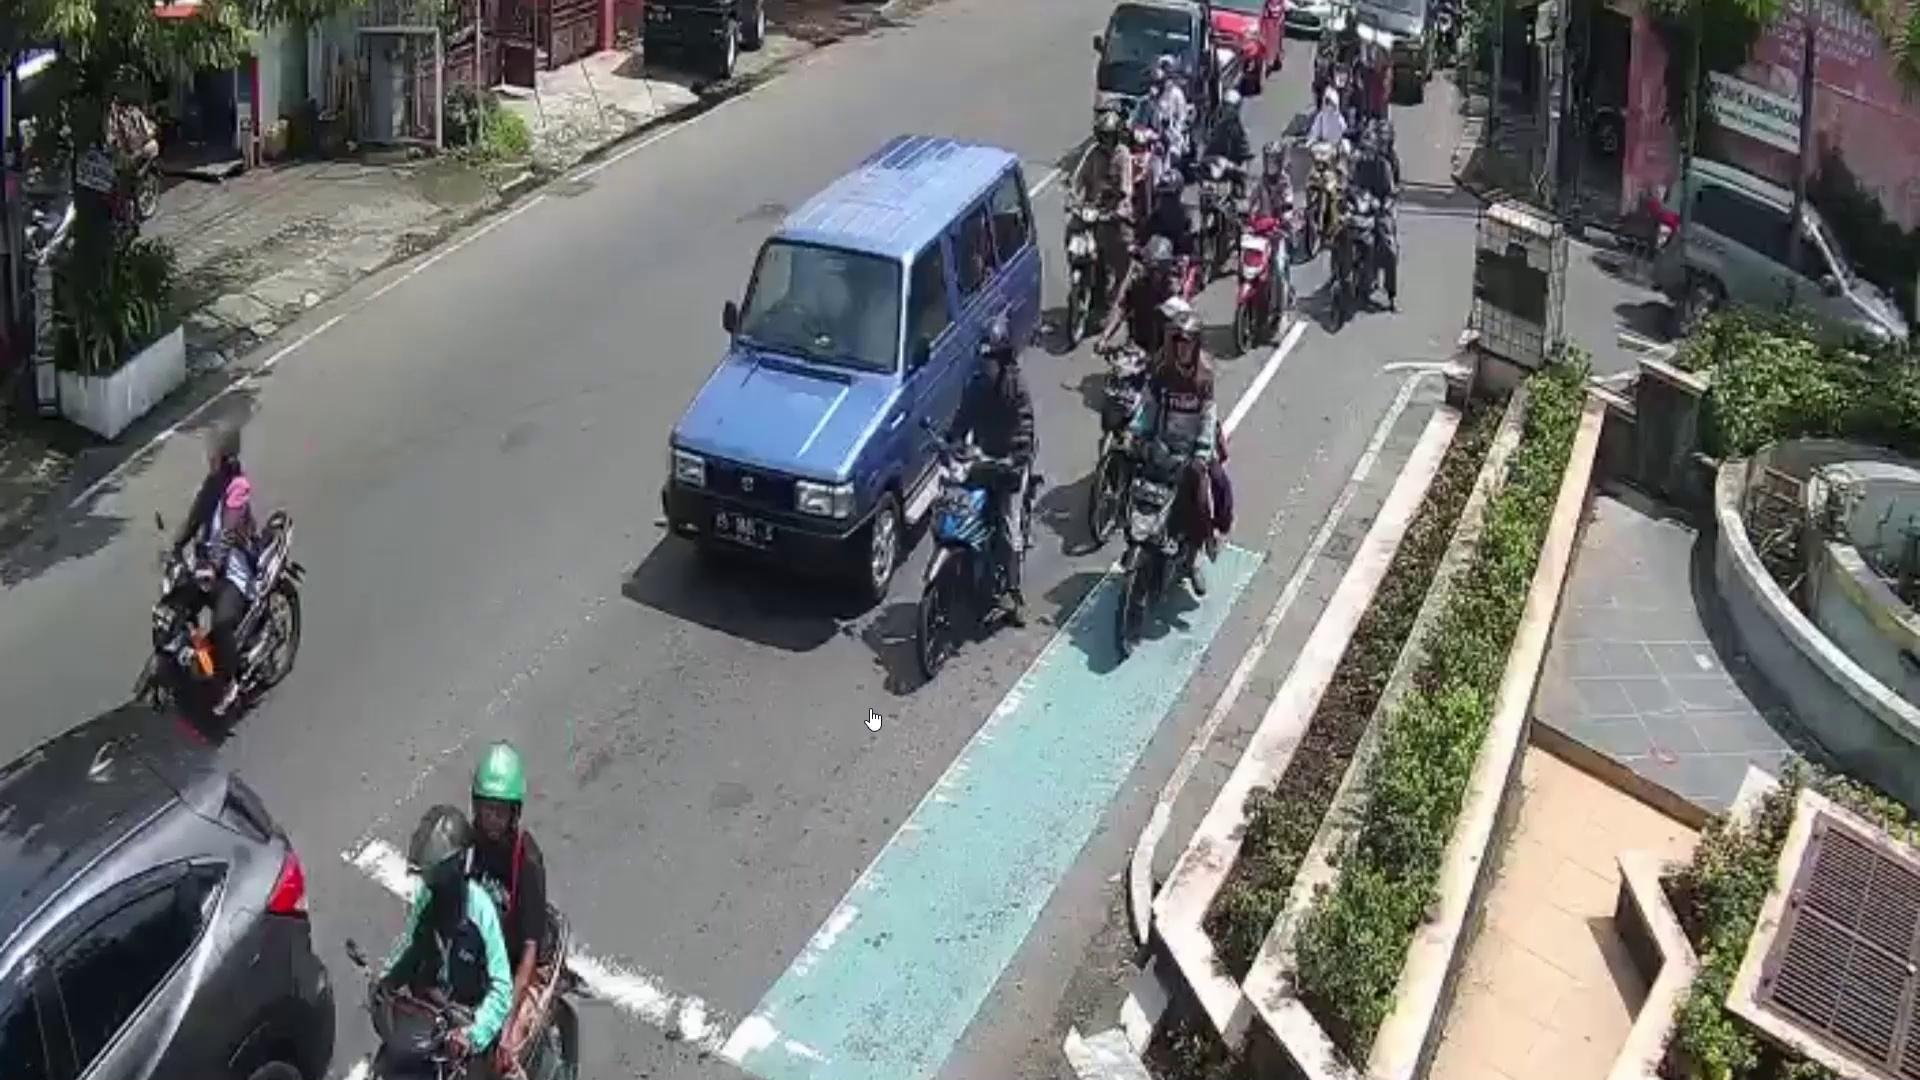car: (657, 127, 1046, 612), (0, 696, 340, 1080), (1655, 144, 1912, 398), (1095, 0, 1242, 132)
motorbike: (109, 516, 310, 712), (920, 425, 1042, 663), (1122, 423, 1217, 645), (1342, 183, 1410, 324), (1241, 210, 1304, 343), (1071, 191, 1122, 339)
